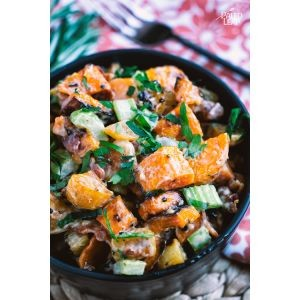sweet potato_brain food: (55, 71, 219, 250)
